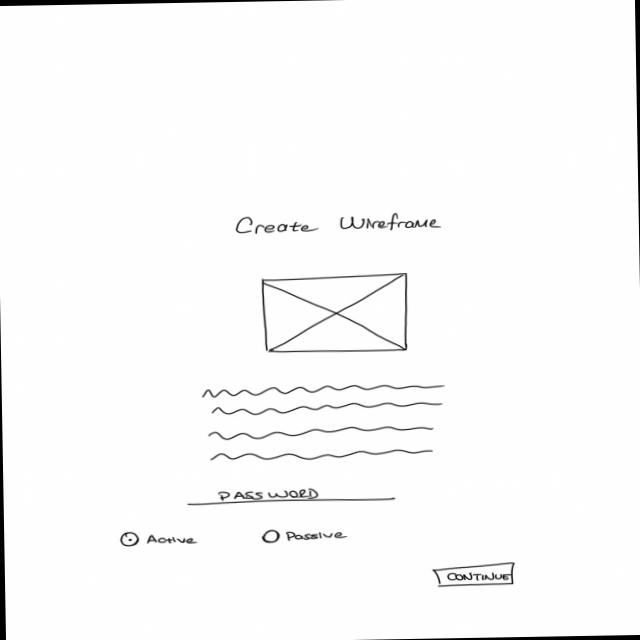button: (432, 560, 516, 588)
image: (258, 270, 412, 354)
input: (186, 484, 397, 506)
label: (233, 211, 442, 235)
radio: (260, 526, 350, 544), (119, 530, 200, 548)
textbox: (200, 382, 448, 464)
